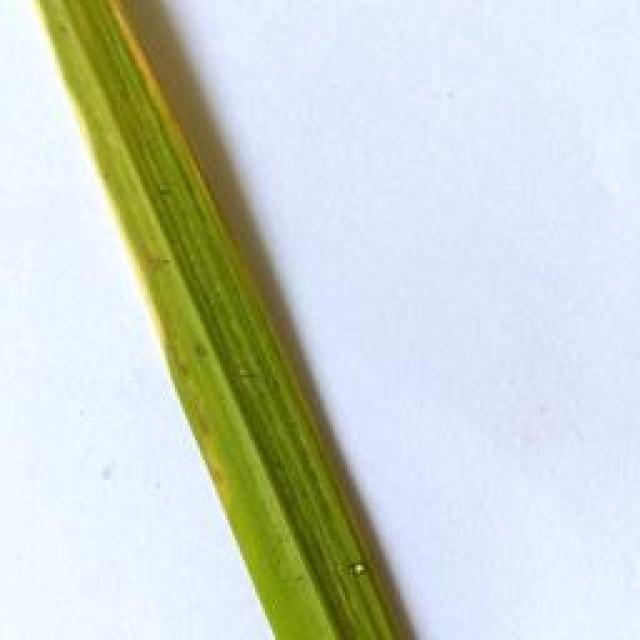Rice_Blast: (345, 556, 373, 580)
